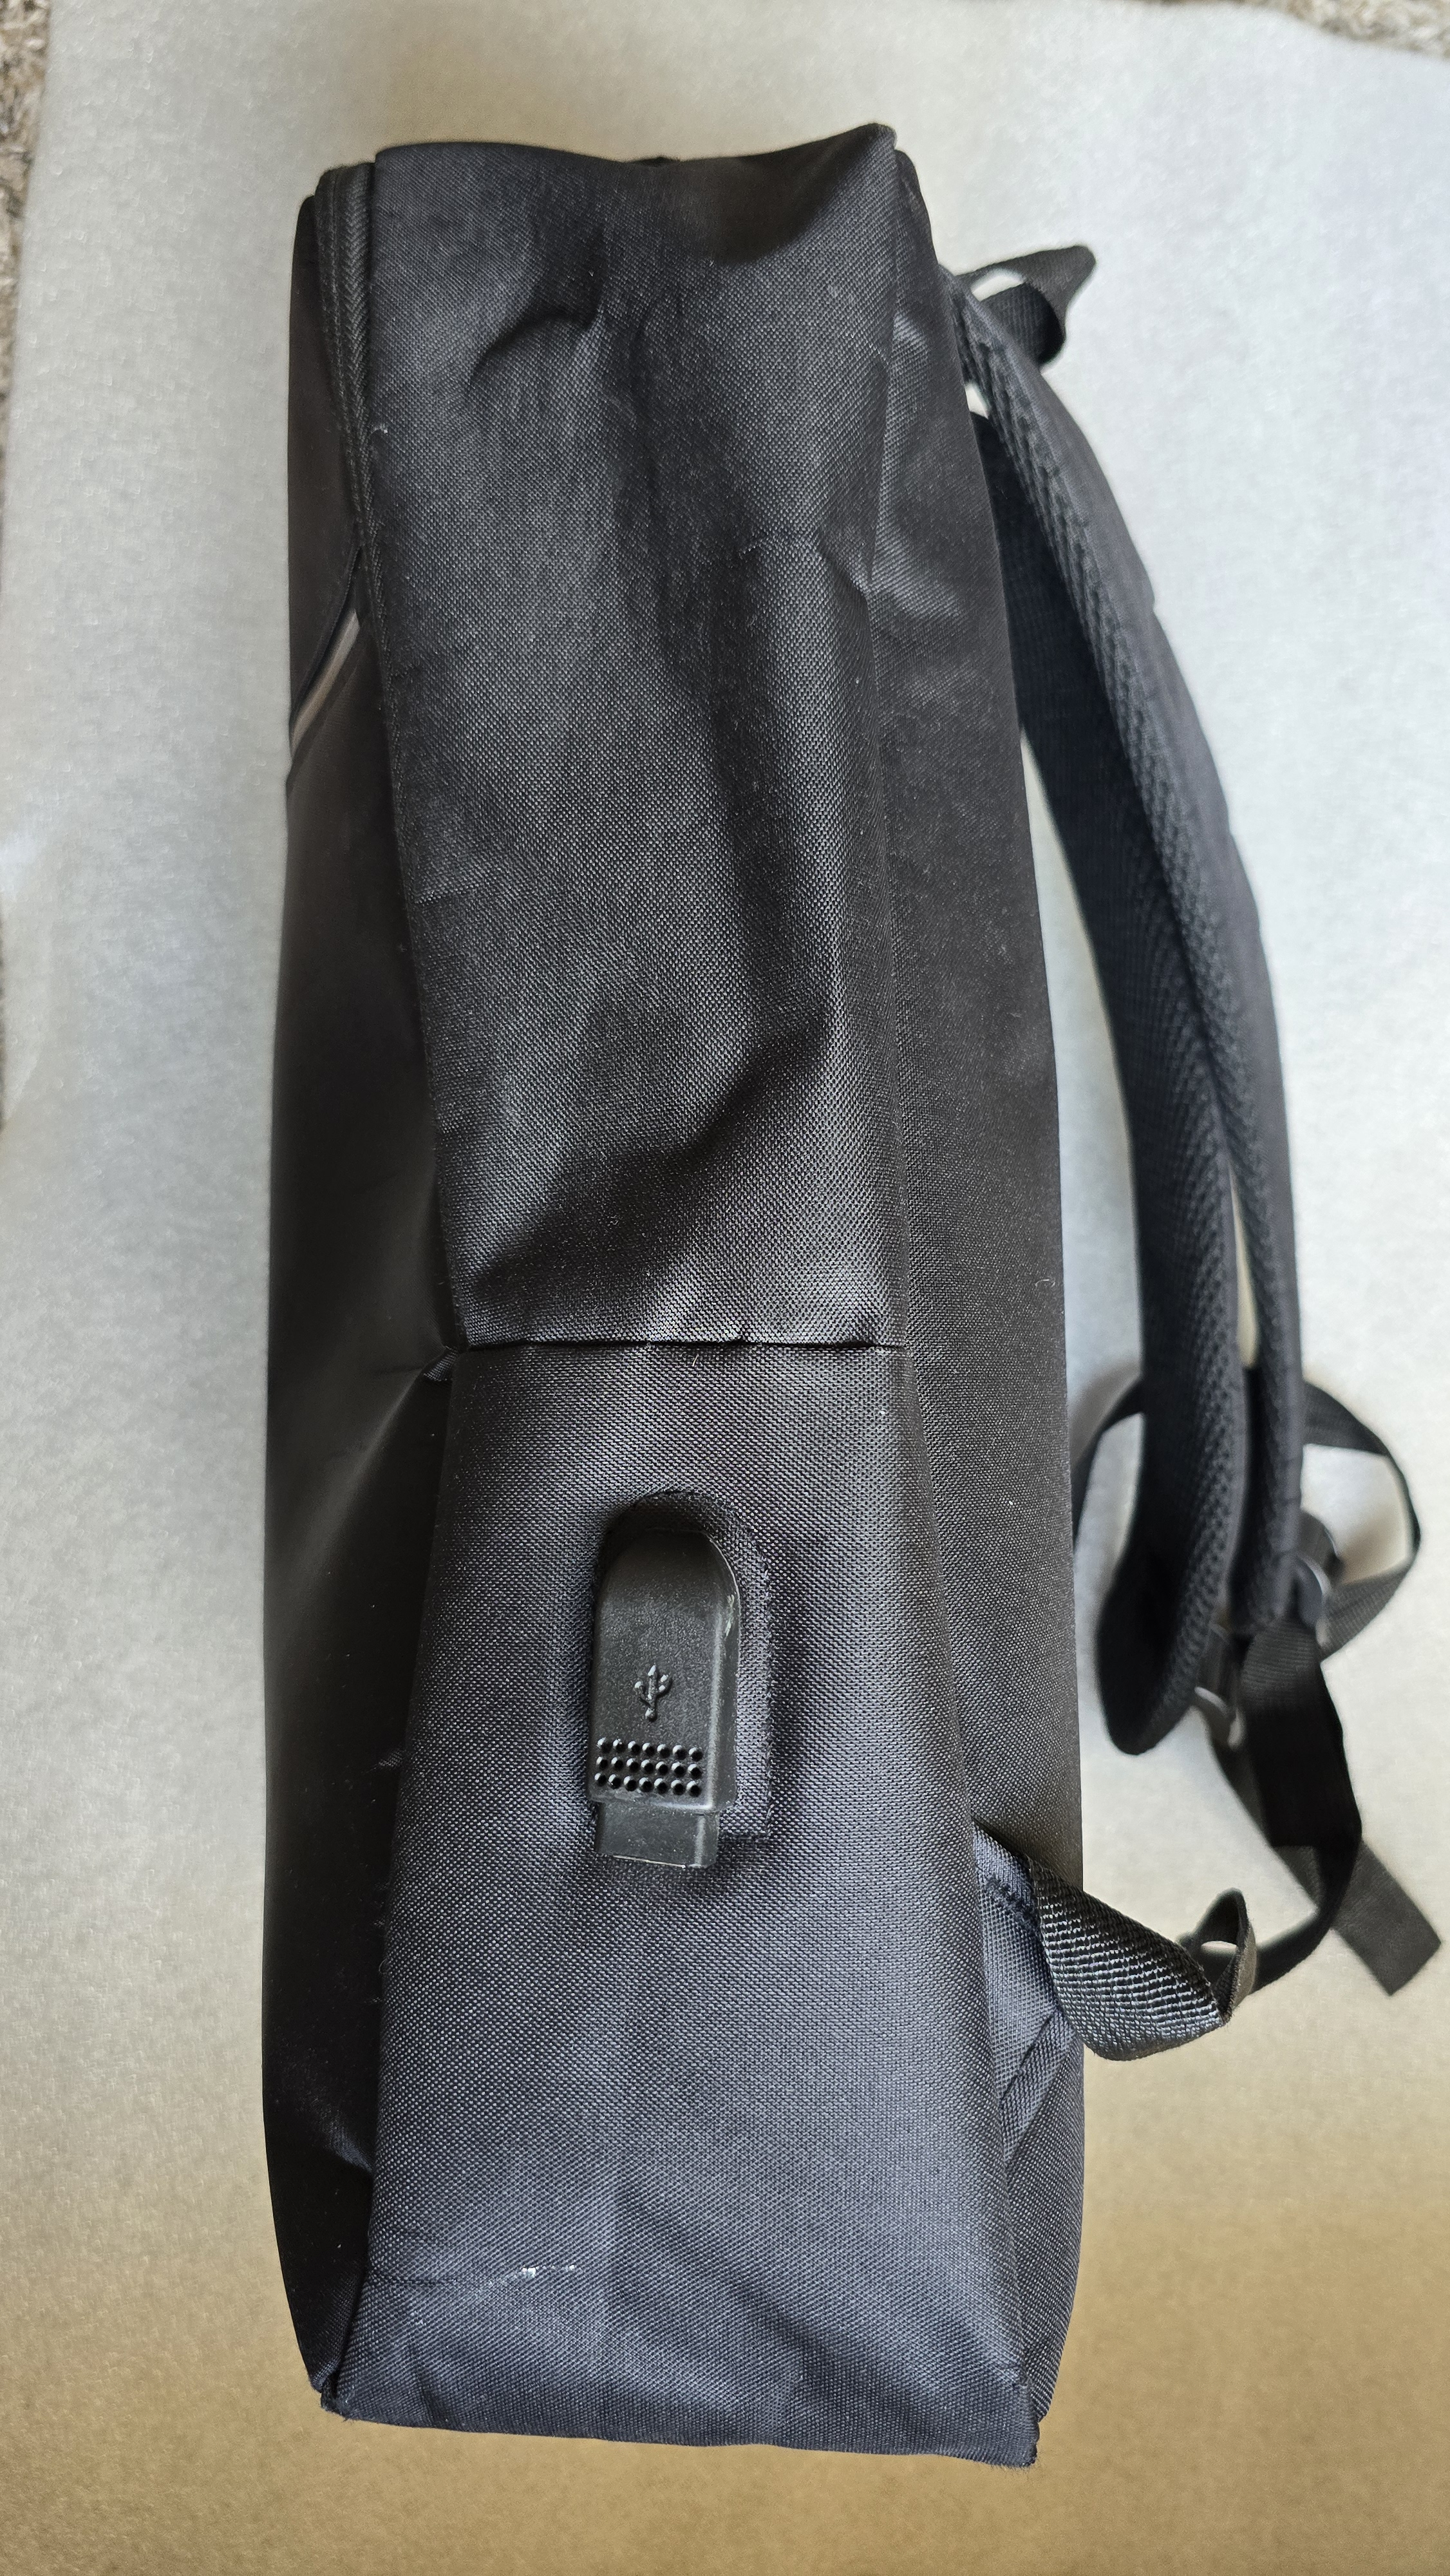bag: (221, 120, 1289, 2477)
